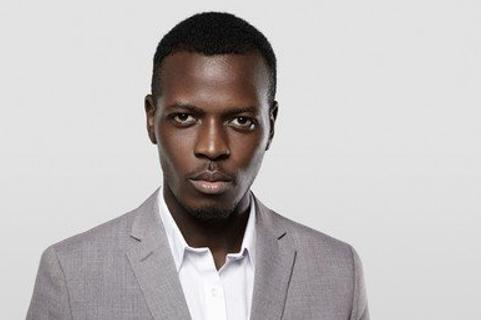Sober: (165, 57, 269, 209)
